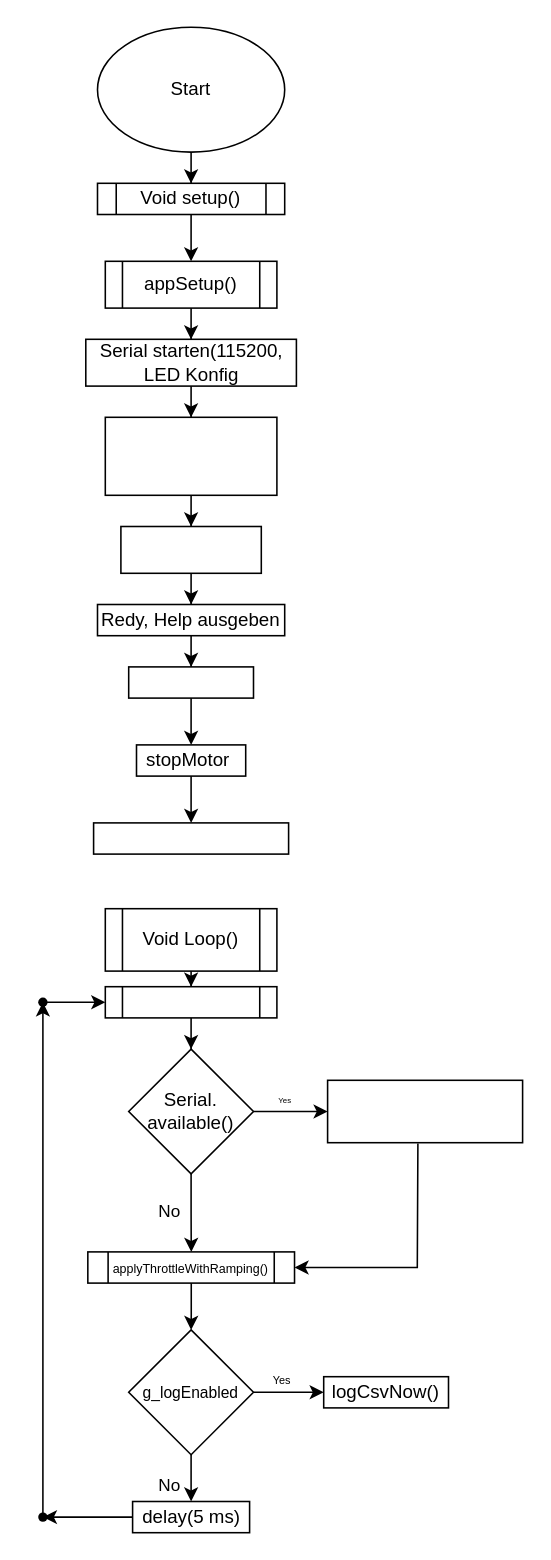
Image size: 551x1560. Some labels were removed from this diagram. Here are the shapes that lost their labels. From the top down, the centre of each, then its label:
[190,455]: ESC initialisieren: attach + Neutralpuls schreiben
[190,549]: BLE initalisieren
[190,681]: ESC arming
[190,837]: printStatus("BOOT")
[190,1001]: appLoop()
[424,1111]: cmd = readStringUntil('\n') → (Predefined Process) handleTextCommand(cmd)
